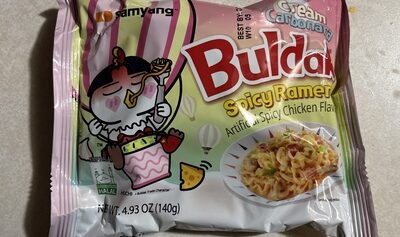Artificial Spicy Chicken Flavor Stir-Fried Ramen: (20, 12, 380, 225)
